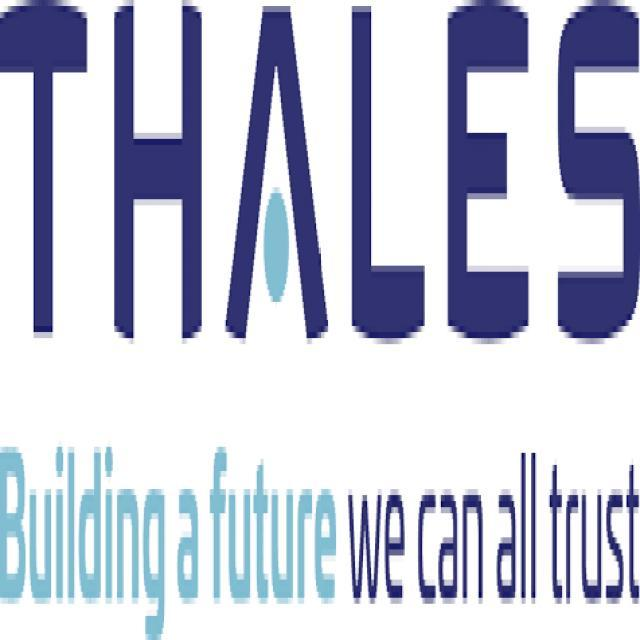thales: (0, 0, 640, 369)
